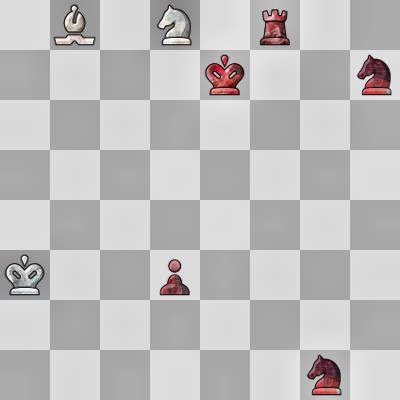black-king: (200, 50, 250, 100)
black-knight: (350, 50, 400, 100), (300, 350, 350, 400)
black-pawn: (150, 250, 200, 300)
black-rook: (250, 0, 300, 50)
white-bishop: (50, 0, 100, 50)
white-king: (0, 250, 50, 300)
white-knight: (150, 0, 200, 50)
